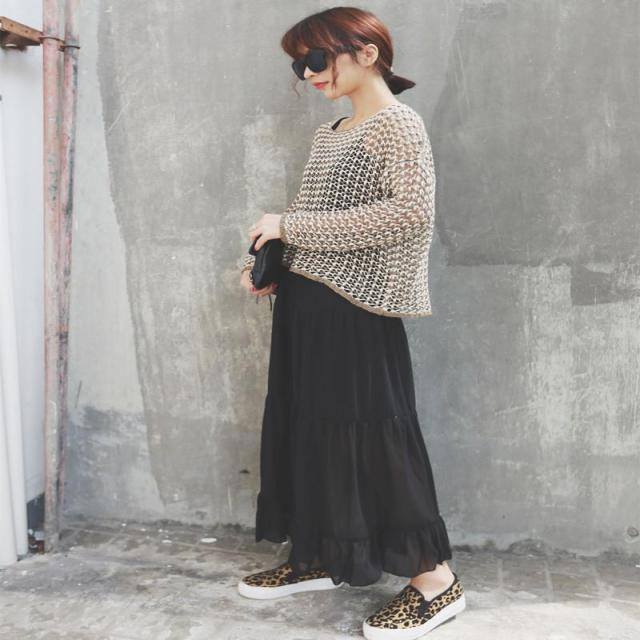long sleeve top: (279, 193, 434, 315), (288, 104, 434, 214)
skirt: (258, 251, 452, 586)
